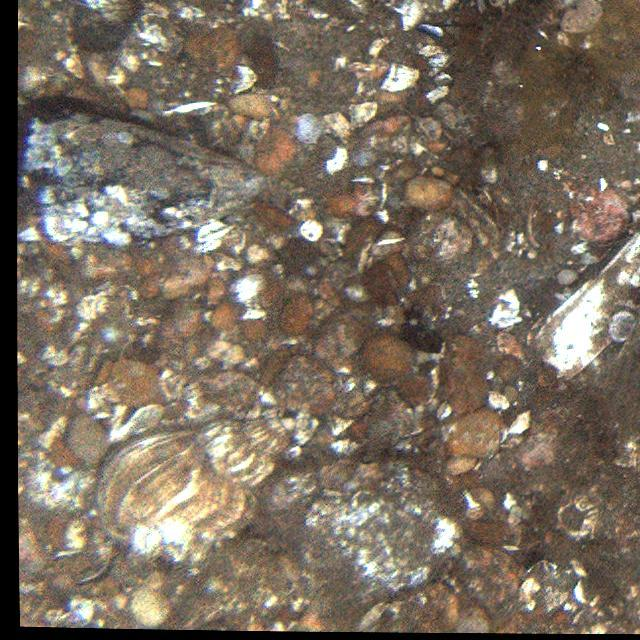whelk: (94, 416, 298, 560)
